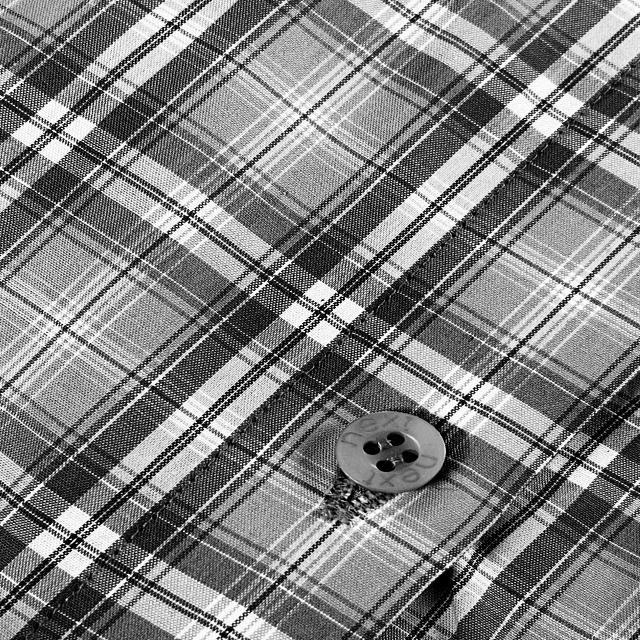Button_hike: (320, 407, 451, 526)
